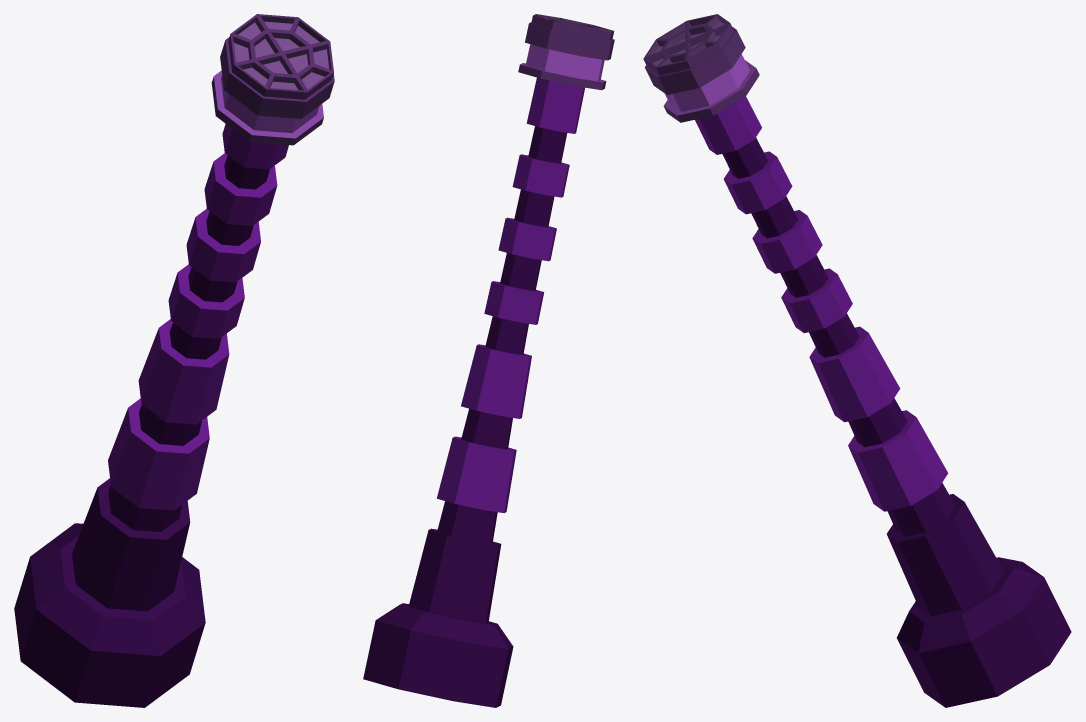
Rendered from settingsObject.fbx.
3 renders of one model, left to right at view 1: azimuth 30°, elevation 25°; view 2: azimuth 150°, elevation 25°; view 3: azimuth 270°, elevation 25°, orthographic. The views are drawn at different scales.
Parts seen in each view (by area): view 1: settings; view 2: settings; view 3: settings.
Boxes of the visible parts, x1,y1,x2,y2 form: settings: (14,14,334,707); settings: (363,14,614,707); settings: (643,14,1071,707).
Bounding box in the file's own units: 6.13 × 27.96 × 16.21.
